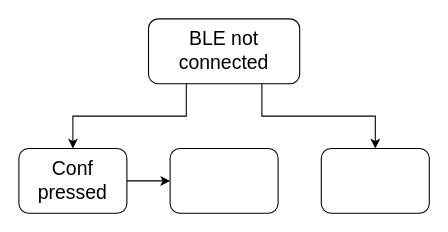
Some shapes in this 448 by 232 pixel diagram are drawn without their labels. Here are the shapes that lost their labels. From the top down, the centre of each, then its label:
At (x=223, y=180): "Conf Released".
At (x=374, y=180): "Sleeptimer exceeded".
